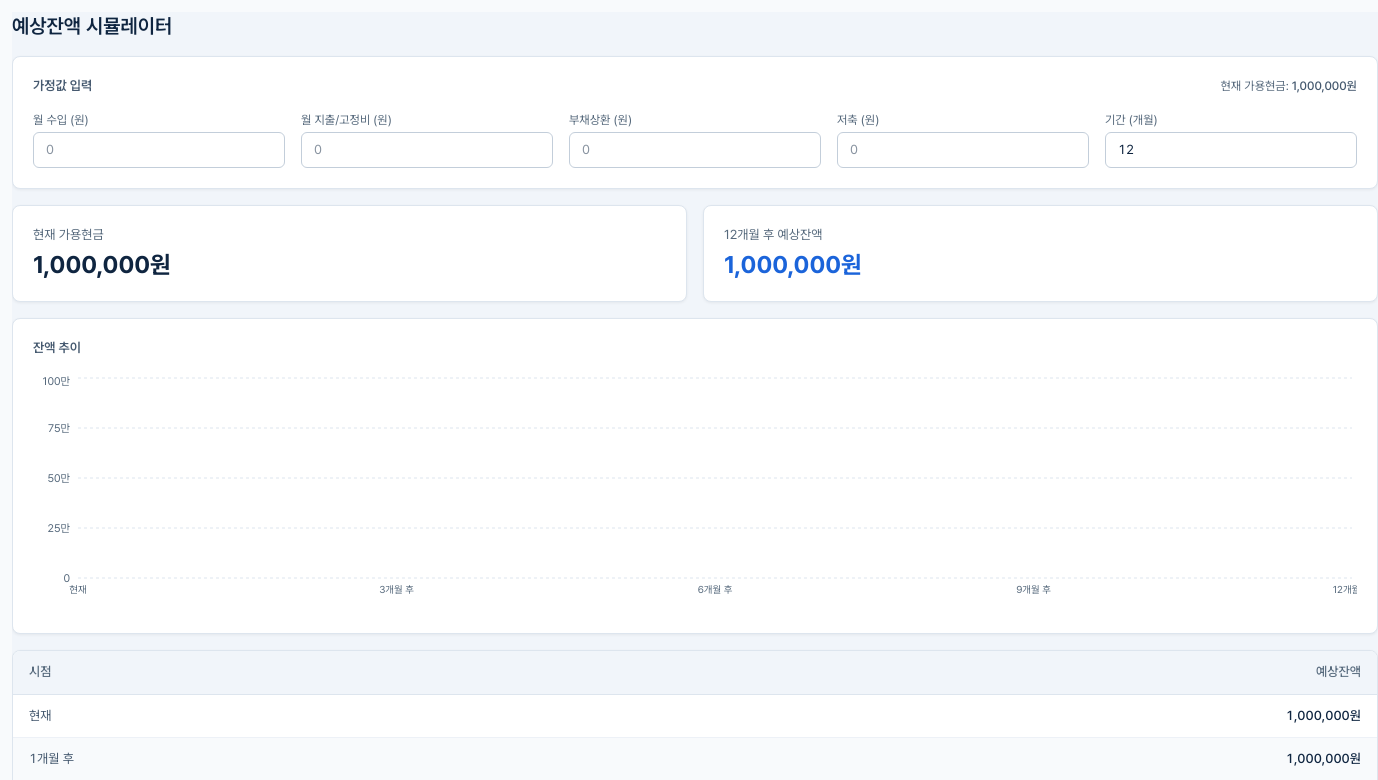
Test: 예상잔액 계산 › 기간을 바꾸면 그만큼만 그린다
Replace the text in the number field labelled "기간 (개월)" with "3" at (1231, 150), box x1=1105 y1=132 x2=1357 y2=168
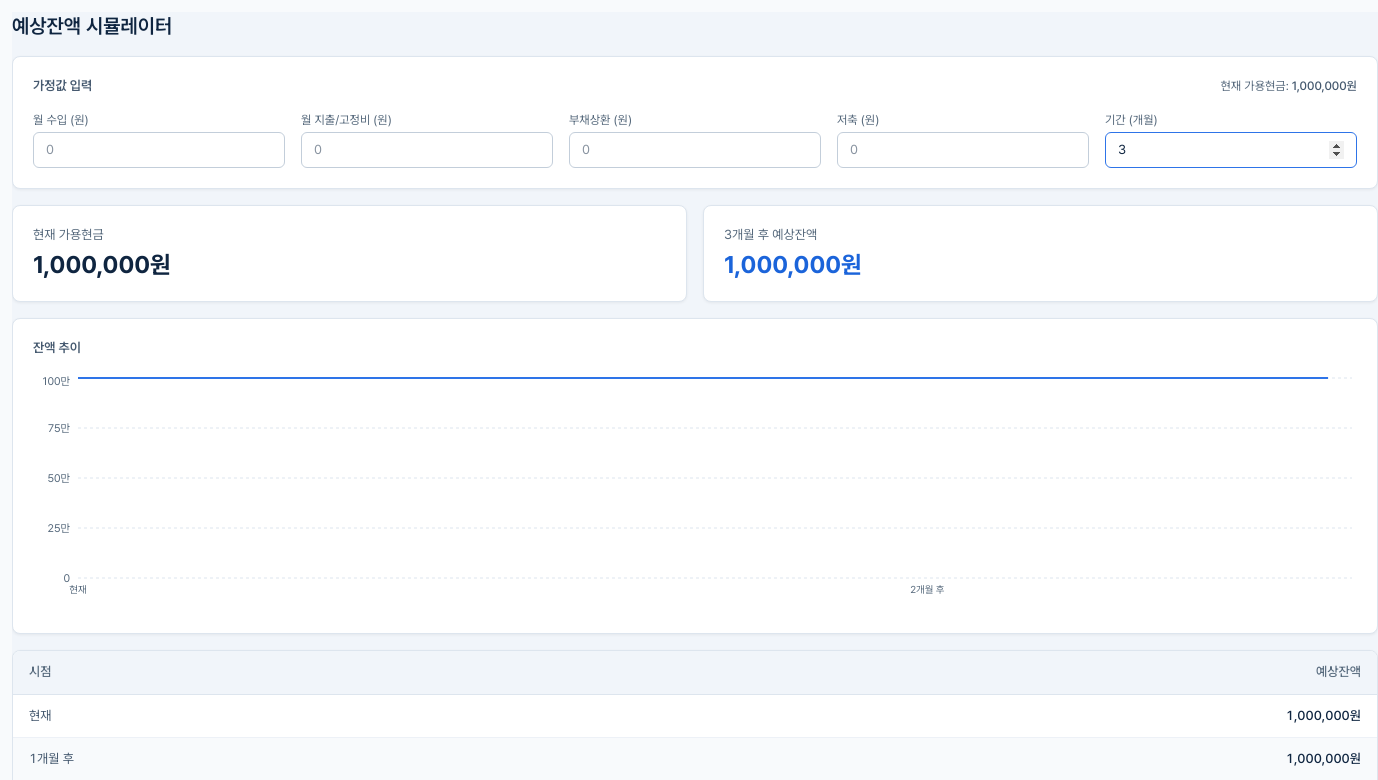
Now the text "3개월 후 예상잔액" is shown, box x1=724 y1=227 x2=817 y2=242
